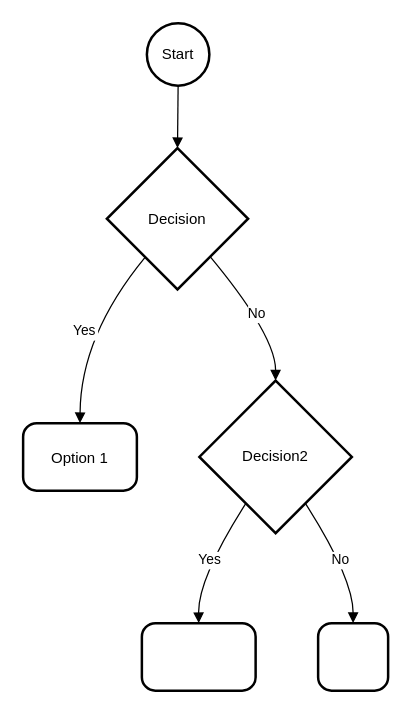
This 410x713 diagram has some shape labels left out. The shapes that lost their labels are listed below. From the top down, each one's centre as x and y in pixels, then its label:
point 198,656: Option 2
point 352,656: End
